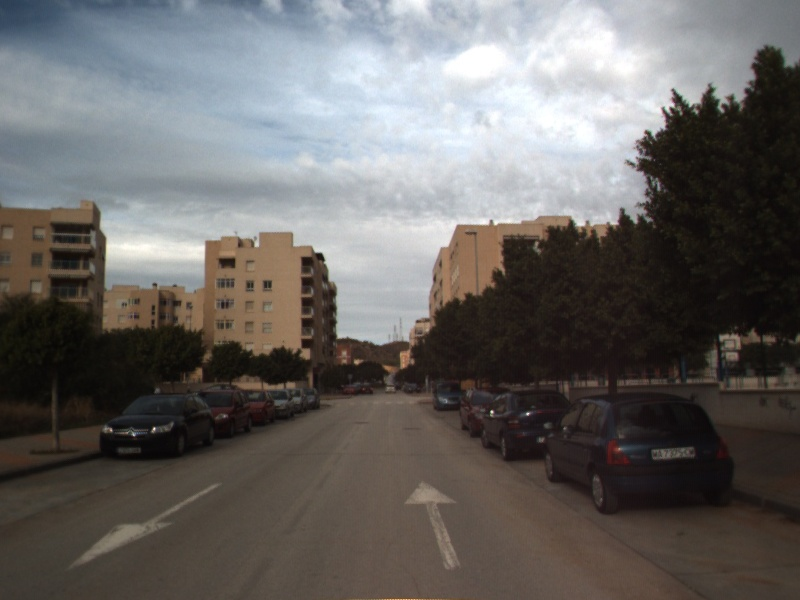STRAIGHT: (402, 478, 464, 573)
